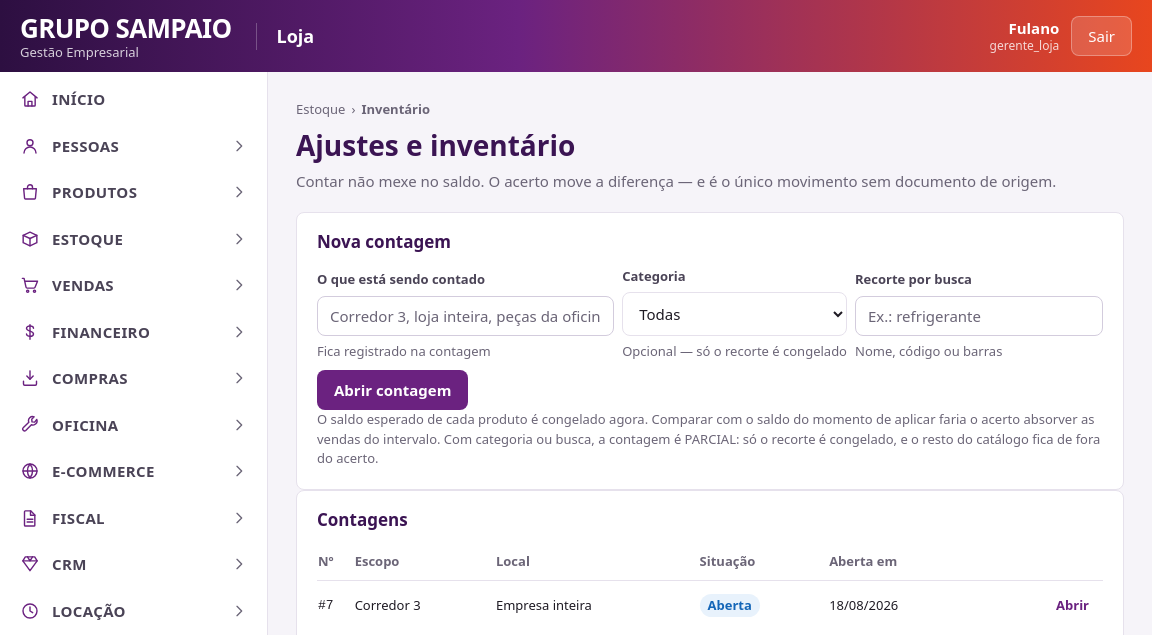
Test: a contagem de inventário diz QUEM contou › item contado mostra o nome; item pendente mostra travessão
Click the button "Abrir": (1072, 605) [1043,588,1102,622]
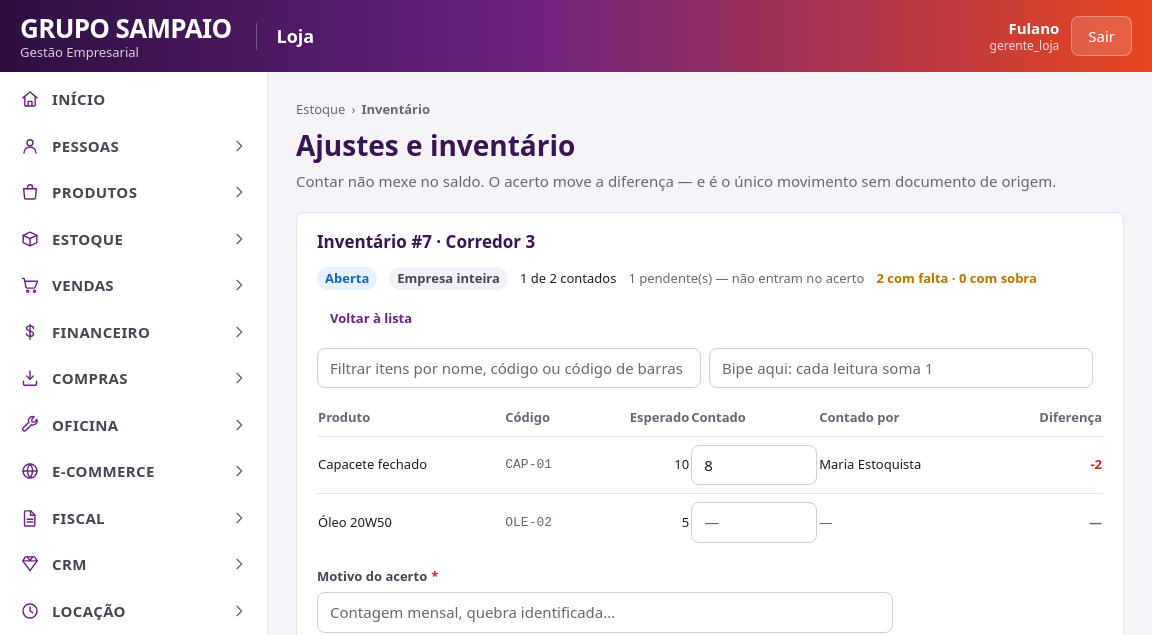
expect the text "Capacete fechado" is shown: met, box [317,436,504,494]
expect the cell "Maria Estoquista" is shown: met, box [818,436,994,494]
